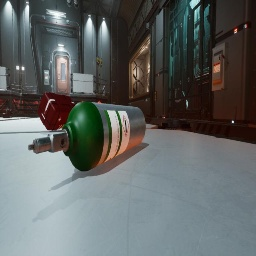0: (28, 101, 146, 171)
EmergencyPhone ,: (154, 90, 157, 100), (75, 72, 77, 73)
FirstAidBox ,: (37, 92, 76, 130), (3, 109, 13, 118)
SafetySwitchPanel ,: (212, 42, 229, 91), (44, 70, 50, 85)
